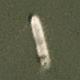ship: (0, 0, 19, 30)
